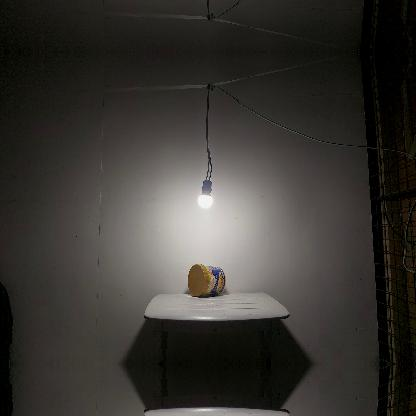Lady-s-Choice: (188, 264, 226, 296)
